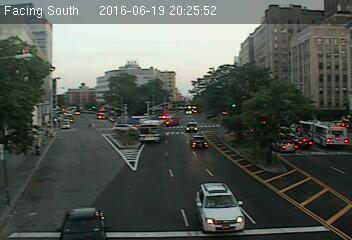neg: (229, 98, 241, 113), (191, 72, 201, 86), (233, 51, 243, 63)
